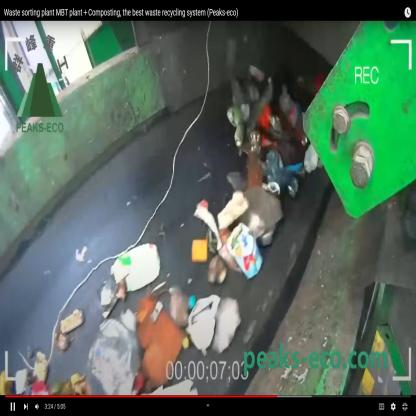Glass Bottle: (279, 92, 302, 128)
